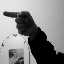g: (1, 9, 38, 36)
